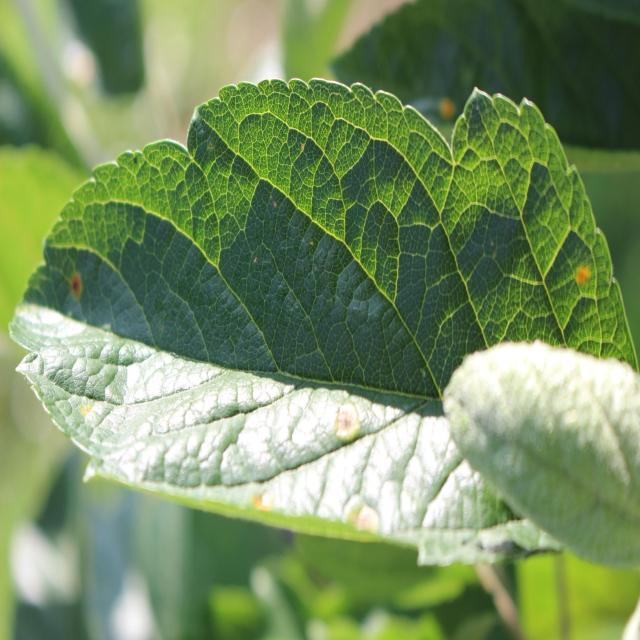rust: (7, 75, 639, 566)
